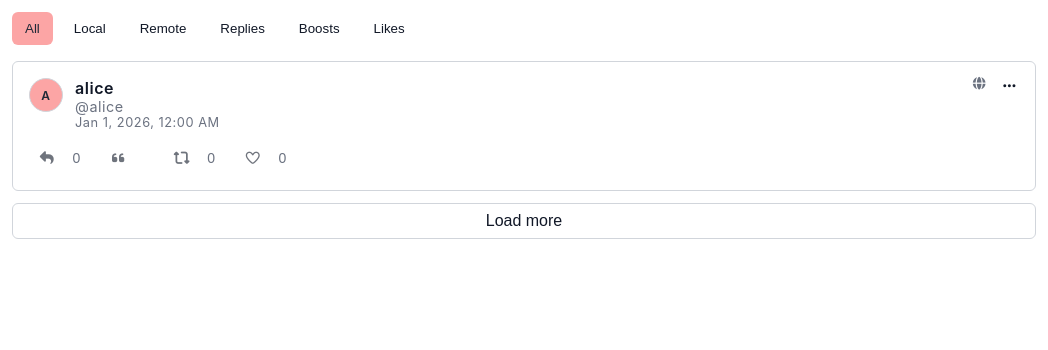
Test: ActivityFeed › loads the next page when Load more is clicked
Click the button "Load more" at x=524, y=221, box [12,203,1036,239]
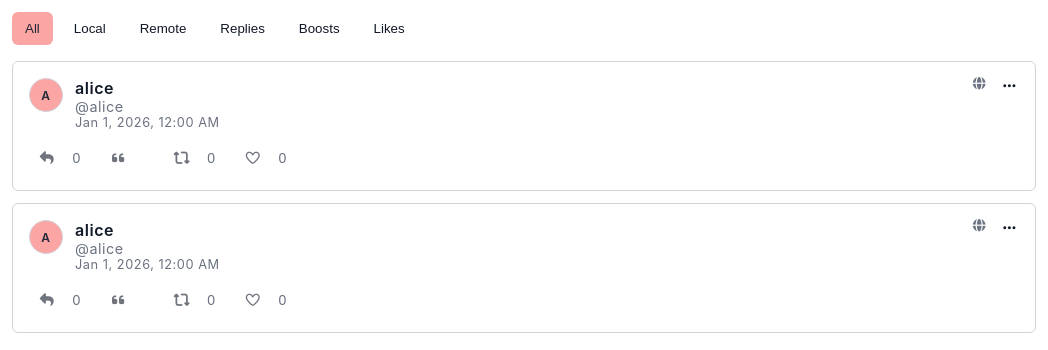
expect the number of elements with class "activity-card" is 2: met, box [12,61,1036,191]; [12,203,1036,333]
